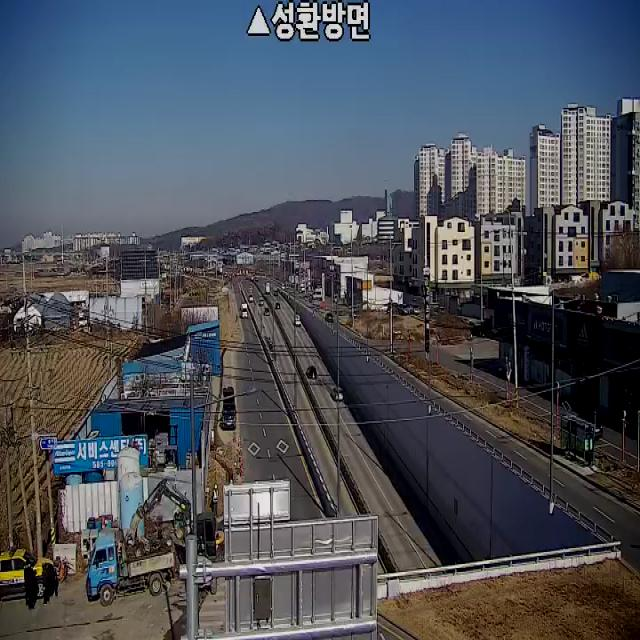Car: (0, 546, 57, 601), (572, 414, 602, 442), (331, 386, 344, 401), (306, 365, 317, 379), (294, 314, 302, 326), (326, 312, 334, 322), (264, 307, 270, 316), (275, 302, 280, 308), (274, 290, 278, 296)
Truck: (73, 502, 182, 608), (158, 484, 224, 607), (222, 385, 235, 429), (262, 279, 272, 297), (241, 302, 248, 318)
